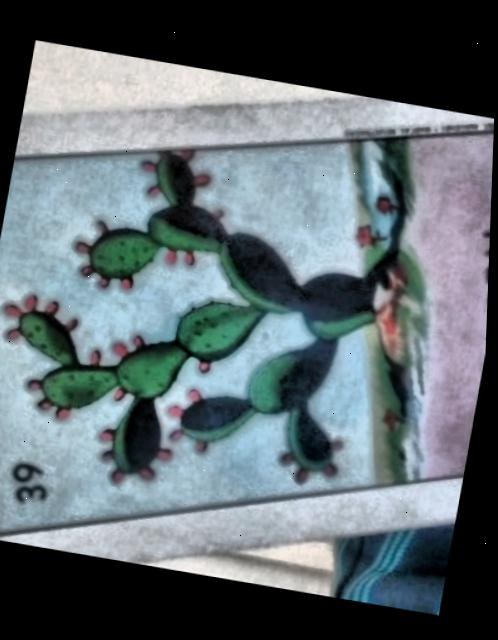El Nopal: (0, 129, 495, 531)
